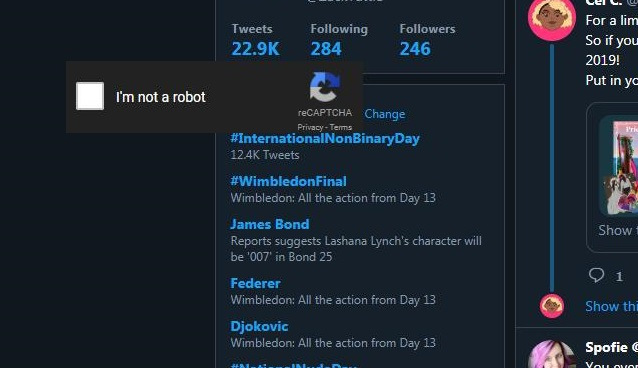captcha: (76, 81, 210, 111)
